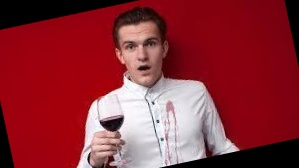wine: (161, 124, 176, 166), (163, 98, 180, 130), (169, 126, 183, 164), (156, 143, 174, 167)
